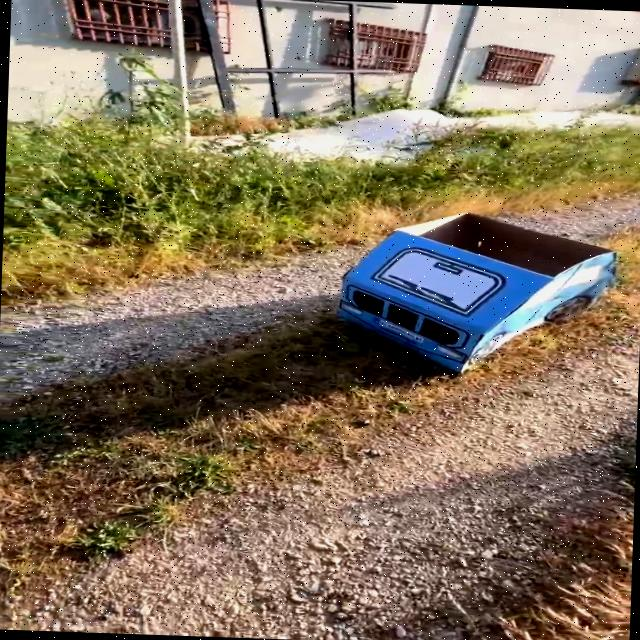blue_car: (280, 181, 640, 385)
